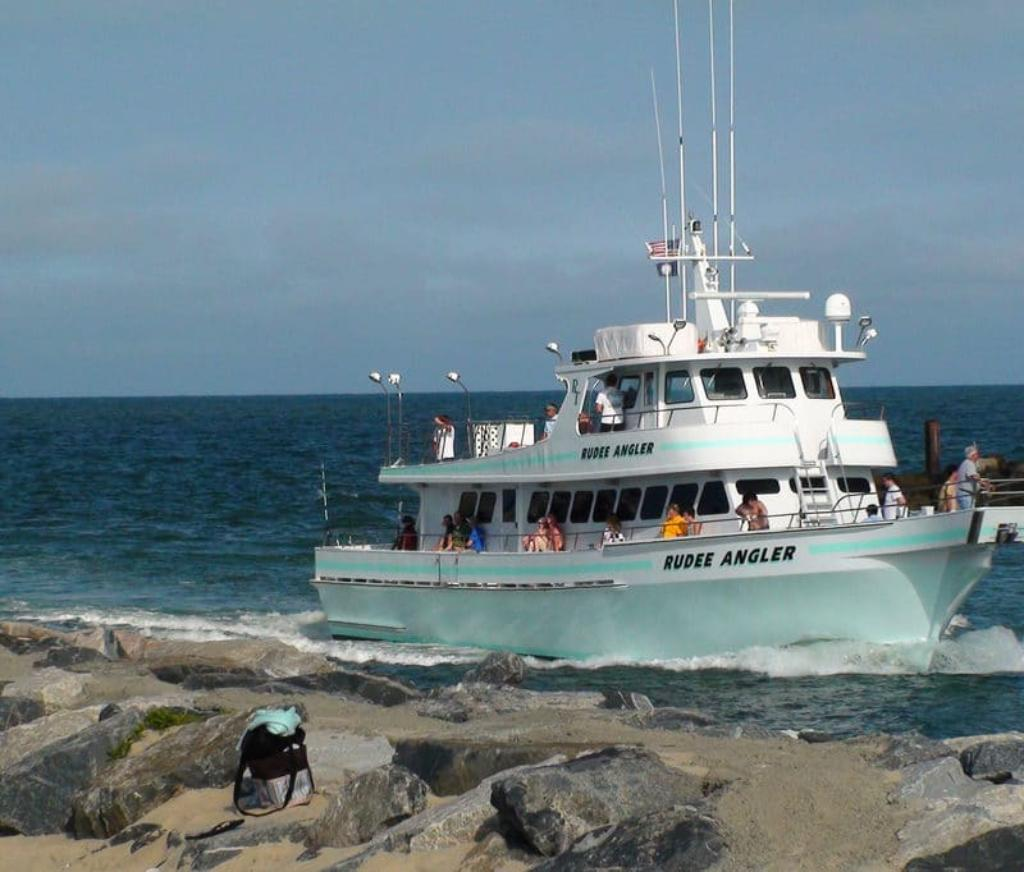PassengerShip: (298, 215, 1016, 655)
